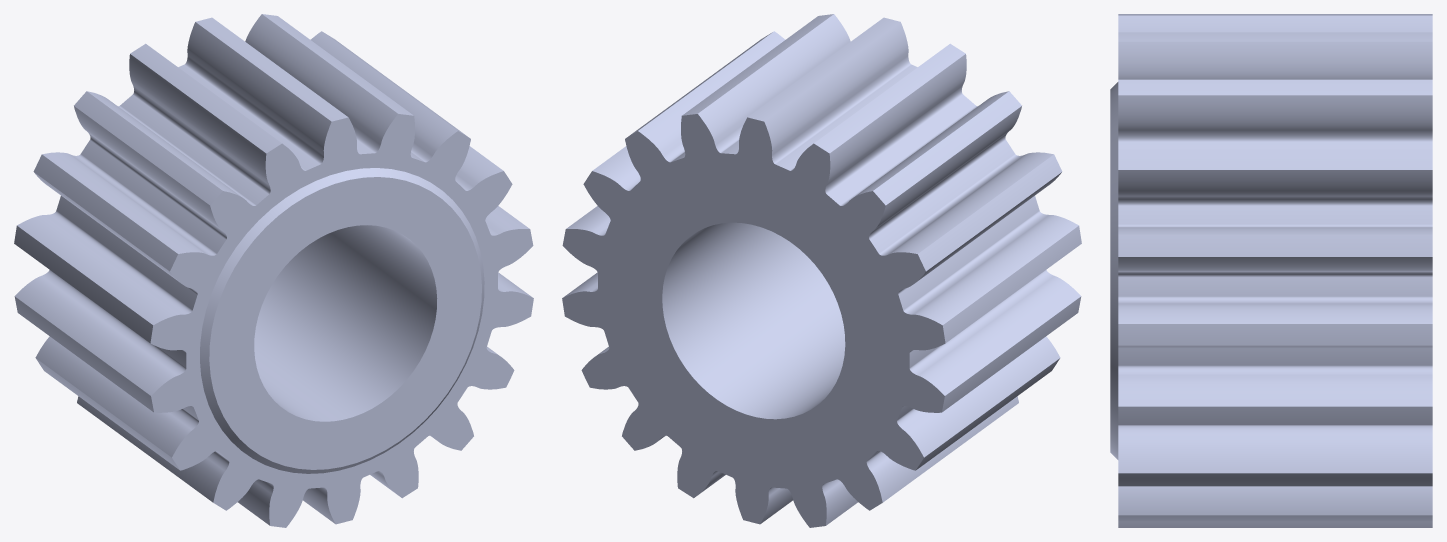
The model's file is REV_21_2101_P05_6_solid1.obj.
3 views of the same model, side by side, from view 1: azimuth 30°, elevation 25°; view 2: azimuth 150°, elevation 25°; view 3: azimuth 270°, elevation 25° (orthographic). The views are drawn at different scales.
Parts seen in each view (by area): view 1: mesh27531, mesh27528, mesh27530, mesh27529, mesh27581, mesh27574, mesh27583, mesh27576, mesh27572, mesh27579, mesh27569, mesh27549 (+21 smaller); view 2: mesh27532, mesh27530, mesh27529, mesh27581, mesh27574, mesh27583, mesh27576, mesh27572, mesh27579, mesh27569, mesh27549, mesh27550 (+18 smaller); view 3: mesh27596, mesh27603, mesh27600, mesh27575, mesh27601, mesh27594, mesh27598, mesh27535, mesh27534, mesh27533, mesh27597, mesh27536 (+15 smaller).
Part boxes in pixels (bbox=[...]): mesh27531: bbox=[150, 114, 533, 527]; mesh27528: bbox=[209, 177, 481, 469]; mesh27530: bbox=[254, 256, 425, 421]; mesh27529: bbox=[295, 225, 437, 350]; mesh27581: bbox=[15, 270, 186, 395]; mesh27574: bbox=[184, 22, 331, 164]; mesh27583: bbox=[17, 210, 192, 325]; mesh27576: bbox=[245, 14, 397, 152]; mesh27572: bbox=[129, 54, 270, 194]; mesh27579: bbox=[35, 336, 198, 457]; mesh27569: bbox=[42, 152, 216, 255]; mesh27549: bbox=[74, 91, 222, 205]; mesh27532: bbox=[562, 114, 945, 527]; mesh27530: bbox=[674, 253, 845, 419]; mesh27529: bbox=[662, 222, 803, 347]; mesh27581: bbox=[909, 270, 1080, 395]; mesh27574: bbox=[764, 22, 911, 164]; mesh27583: bbox=[903, 210, 1078, 325]; mesh27576: bbox=[698, 14, 850, 152]; mesh27572: bbox=[825, 54, 966, 194]; mesh27579: bbox=[897, 336, 1060, 457]; mesh27569: bbox=[879, 152, 1053, 255]; mesh27549: bbox=[873, 91, 1021, 205]; mesh27550: bbox=[918, 154, 1062, 271]; mesh27596: bbox=[1118, 425, 1432, 473]; mesh27603: bbox=[1118, 95, 1432, 142]; mesh27600: bbox=[1118, 365, 1432, 406]; mesh27575: bbox=[1118, 41, 1432, 79]; mesh27601: bbox=[1118, 170, 1432, 205]; mesh27594: bbox=[1118, 486, 1432, 515]; mesh27598: bbox=[1118, 296, 1432, 323]; mesh27535: bbox=[1118, 234, 1432, 256]; mesh27534: bbox=[1118, 324, 1432, 345]; mesh27533: bbox=[1118, 149, 1432, 169]; mesh27597: bbox=[1118, 257, 1432, 277]; mesh27536: bbox=[1118, 406, 1432, 425].
Bounding box in the file's own units: 0.0127 × 0.0127 × 0.008.
